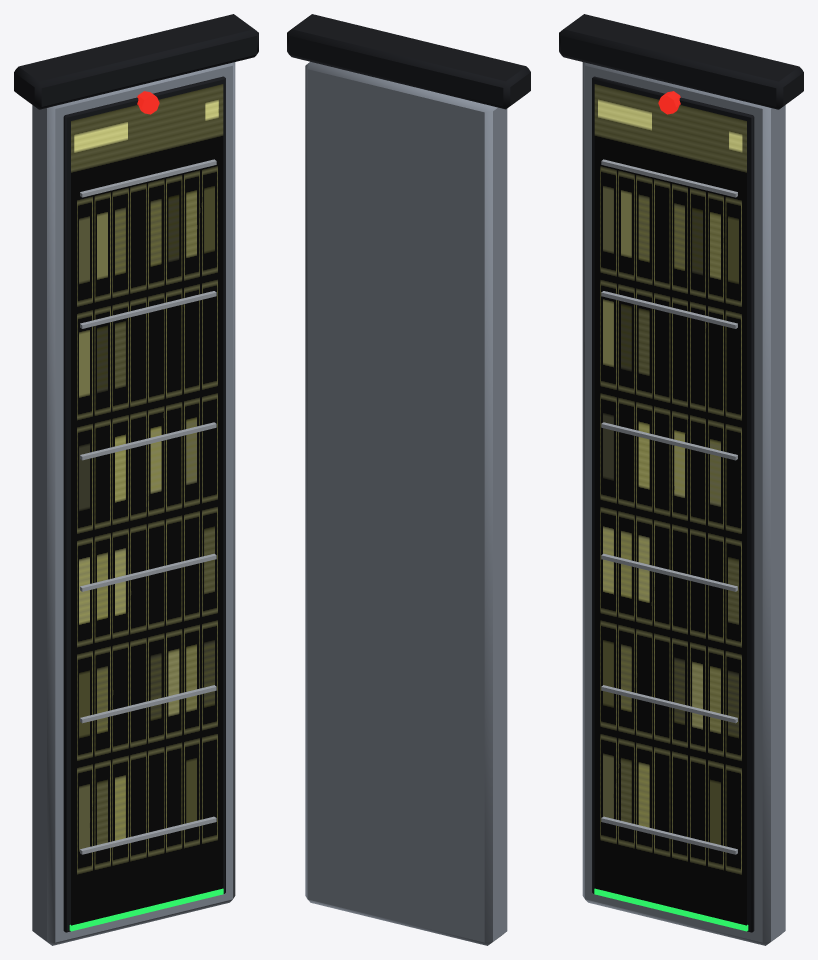
File: display_tall_readout.glb
3 views of the same model, side by side, from view 1: azimuth 30°, elevation 25°; view 2: azimuth 150°, elevation 25°; view 3: azimuth 330°, elevation 25° (orthographic).
Parts seen in each view (by area): view 1: display_tall_readout; view 2: display_tall_readout; view 3: display_tall_readout.
Boxes of the visible parts, bbox=[...] form: display_tall_readout: bbox=[14, 14, 258, 945]; display_tall_readout: bbox=[287, 14, 530, 945]; display_tall_readout: bbox=[559, 14, 803, 945].
Size of the model in its own units: 0.5 by 1.86 by 0.105.
Materials: 6 (1 with a texture image).
